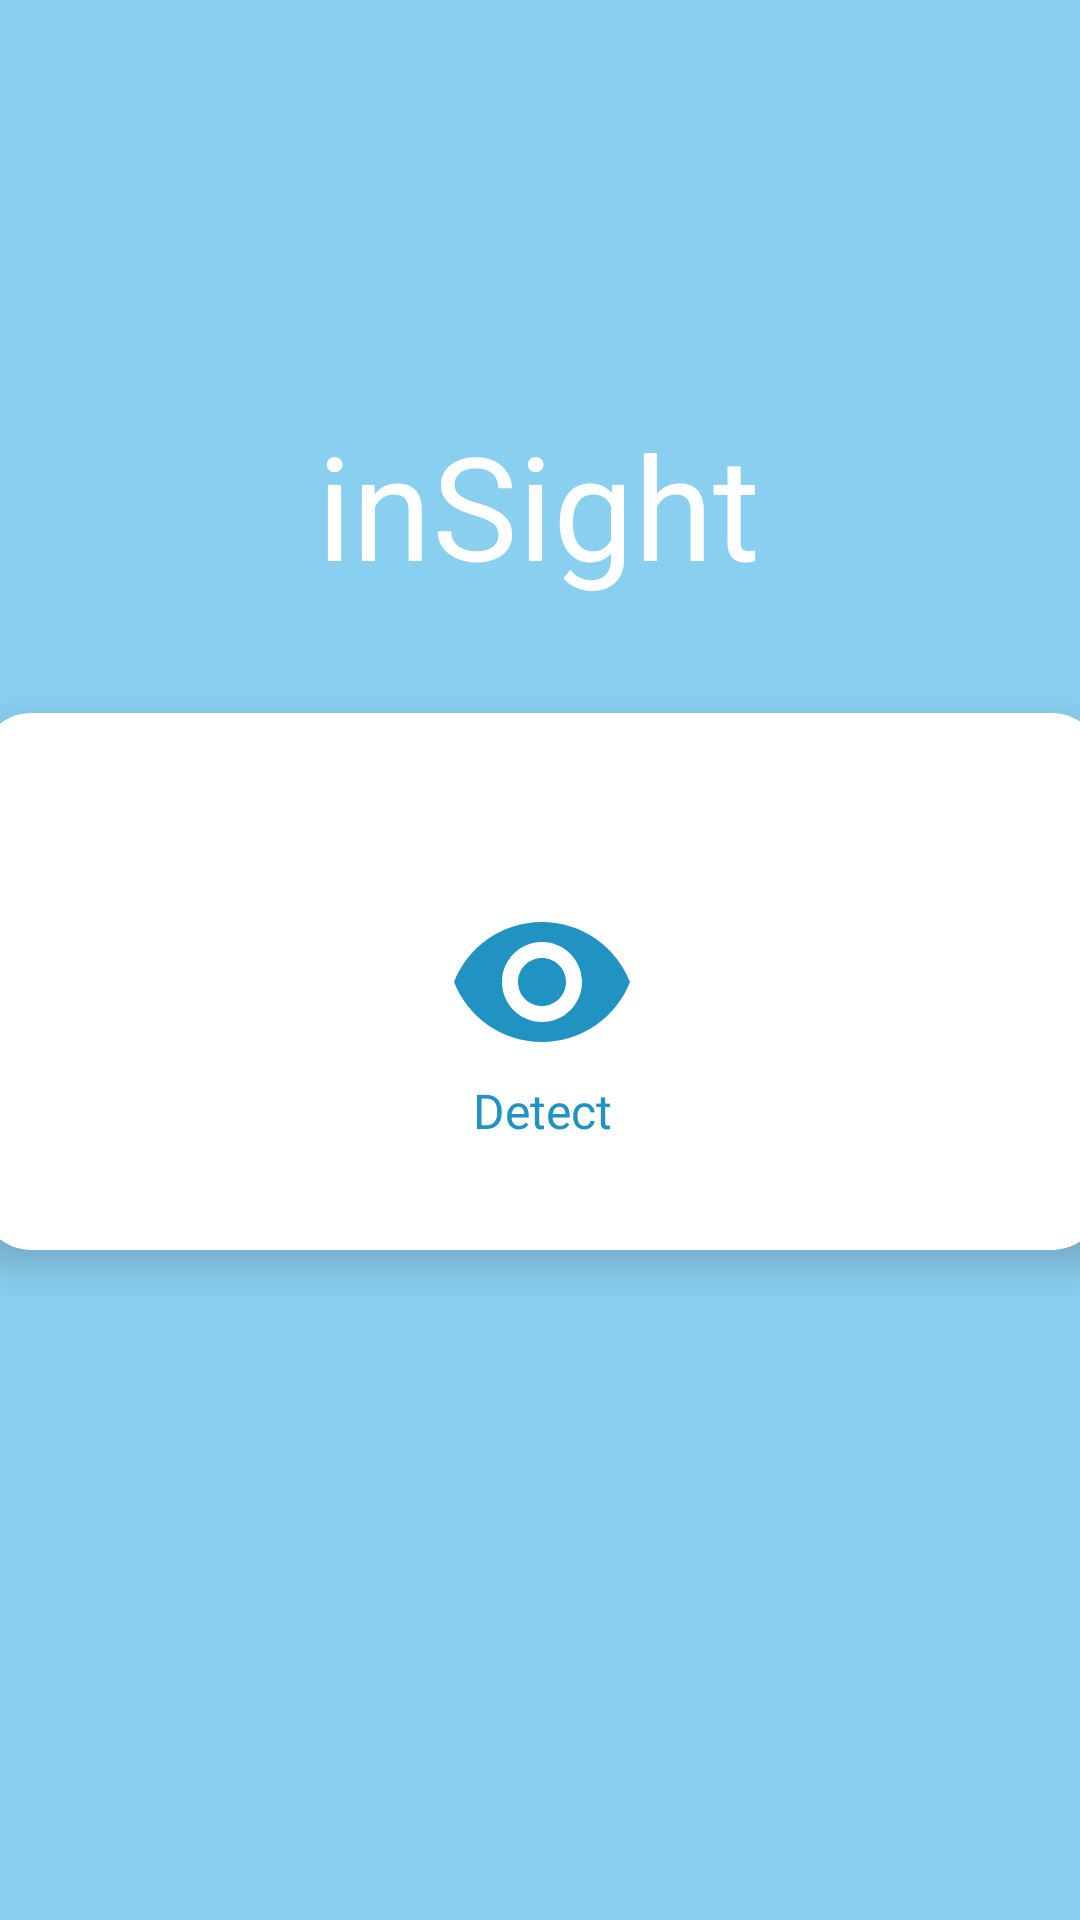

Icons on this 1080px x 1920px Android screen, each with its box as rect(x1, y1, x2, y2):
eye: rect(454, 922, 630, 1042)
